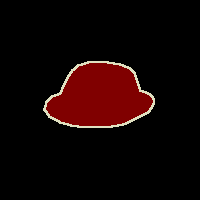hat: (44, 62, 154, 127)
